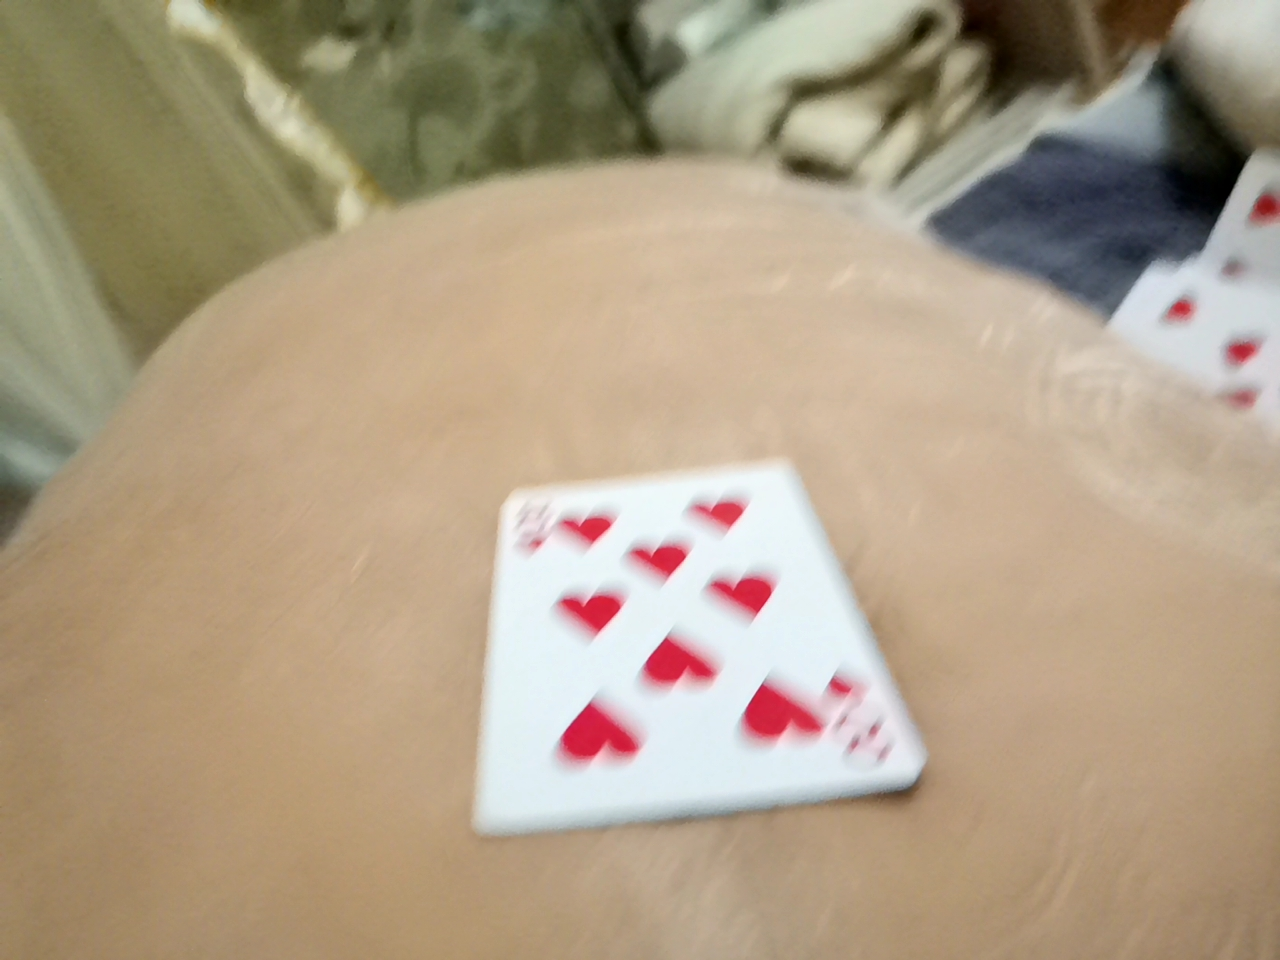hx 8: (392, 450, 930, 918)
